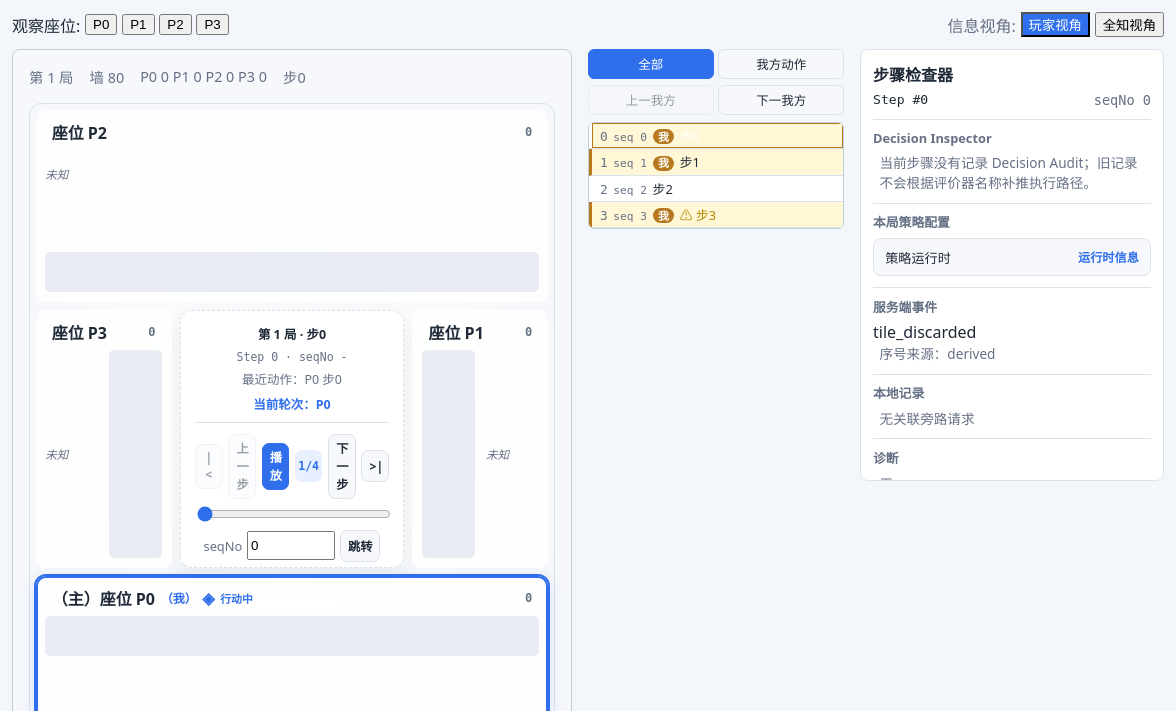
it: Timeline 条目与高亮 › 胡牌标记只存在于 HU 及之后的帧,回退立即清除
Click the button with test id "btn-next" at (342, 466), box [328,434,356,498]
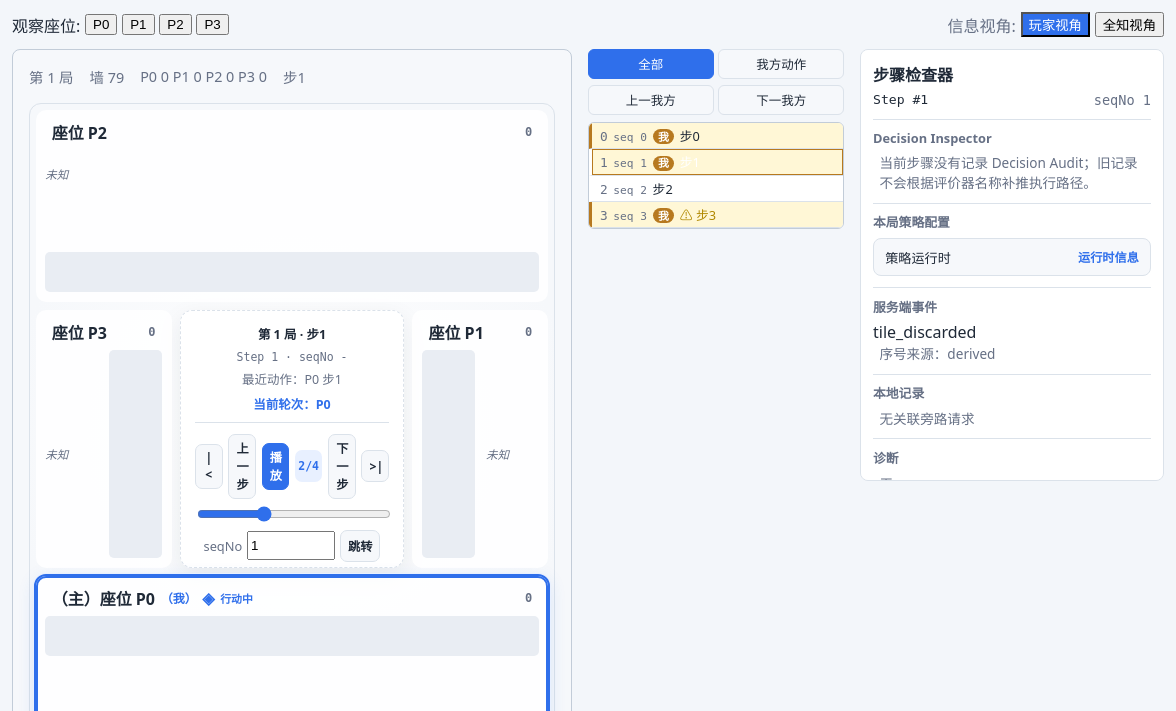
Click the button with test id "btn-next" at (342, 466), box [328,434,356,498]
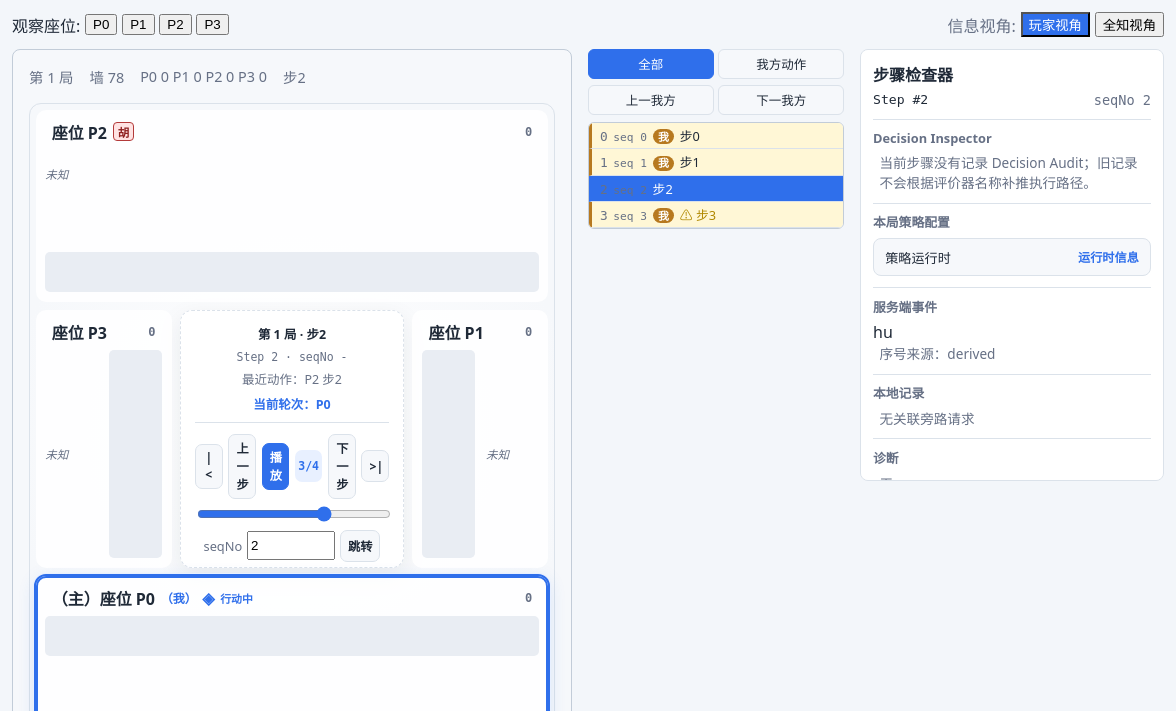
Check: the text with test id "winner-badge-2" reads "胡", box [118,125,129,140]
Click the button with test id "btn-next" at (342, 466), box [328,434,356,498]
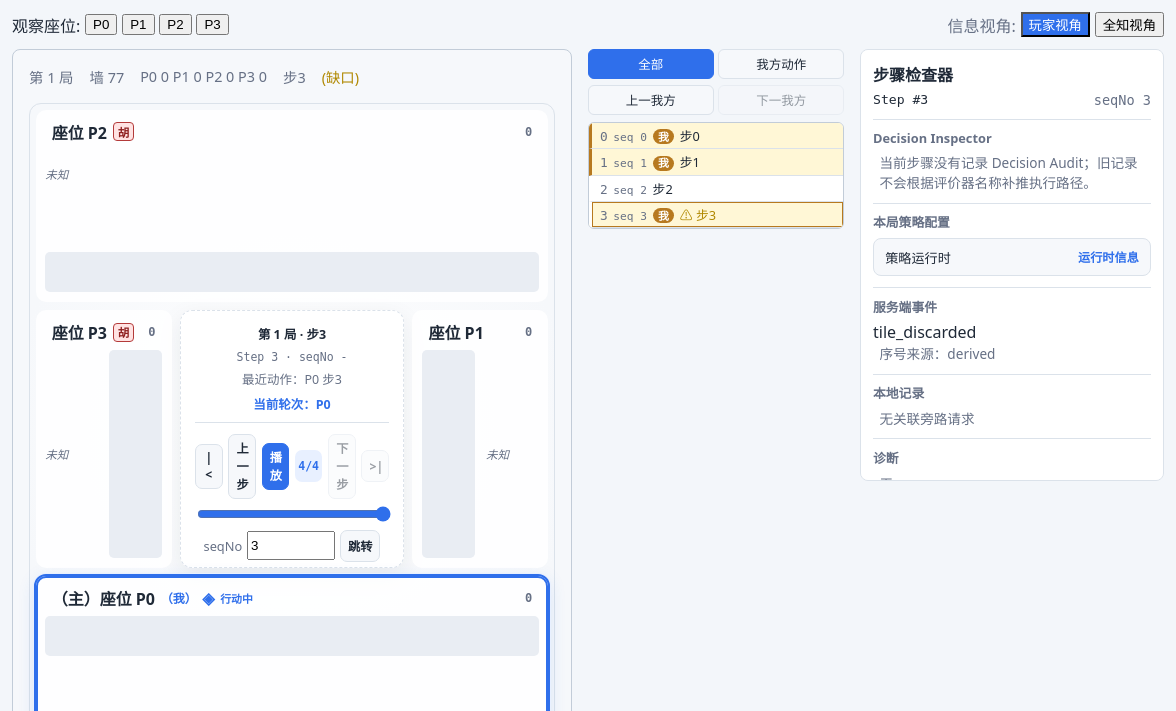
Check: the text with test id "winner-badge-3" reads "胡", box [118,326,129,340]
Click the button with test id "btn-back" at (242, 466), box [228,434,256,498]
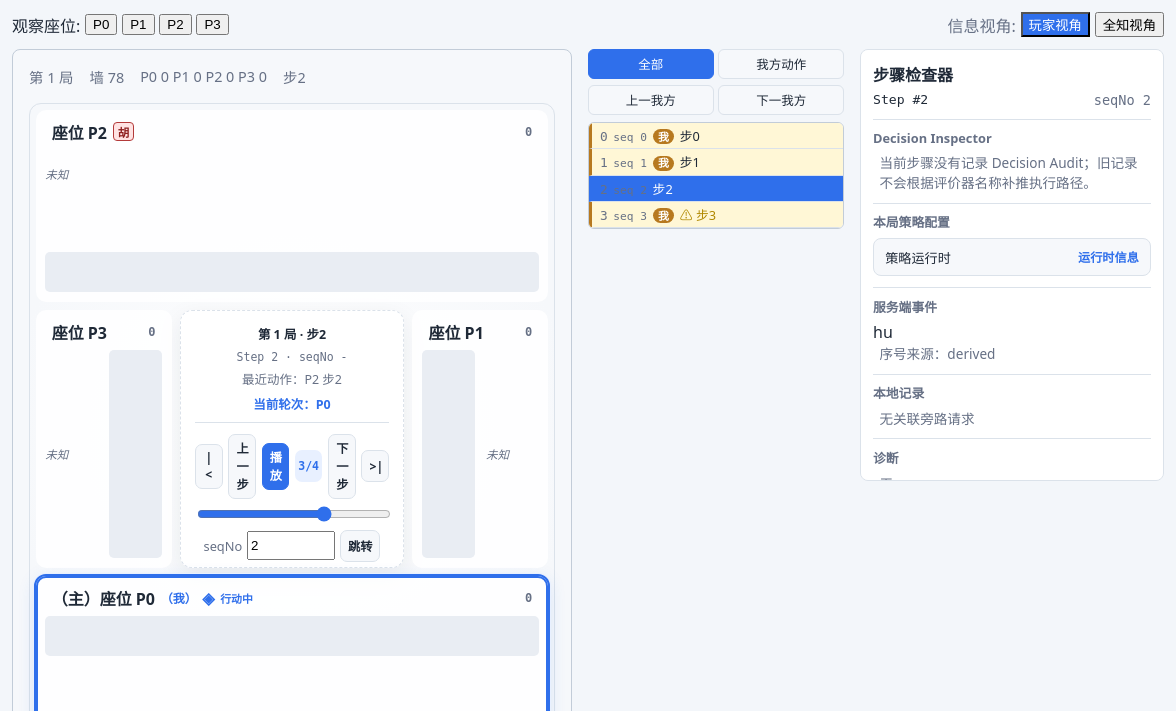
Check: the text "胡" is shown, box [113,122,134,141]
Check: the text with test id "winner-badge-3" is gone
Click the button with test id "btn-back" at (242, 466), box [228,434,256,498]
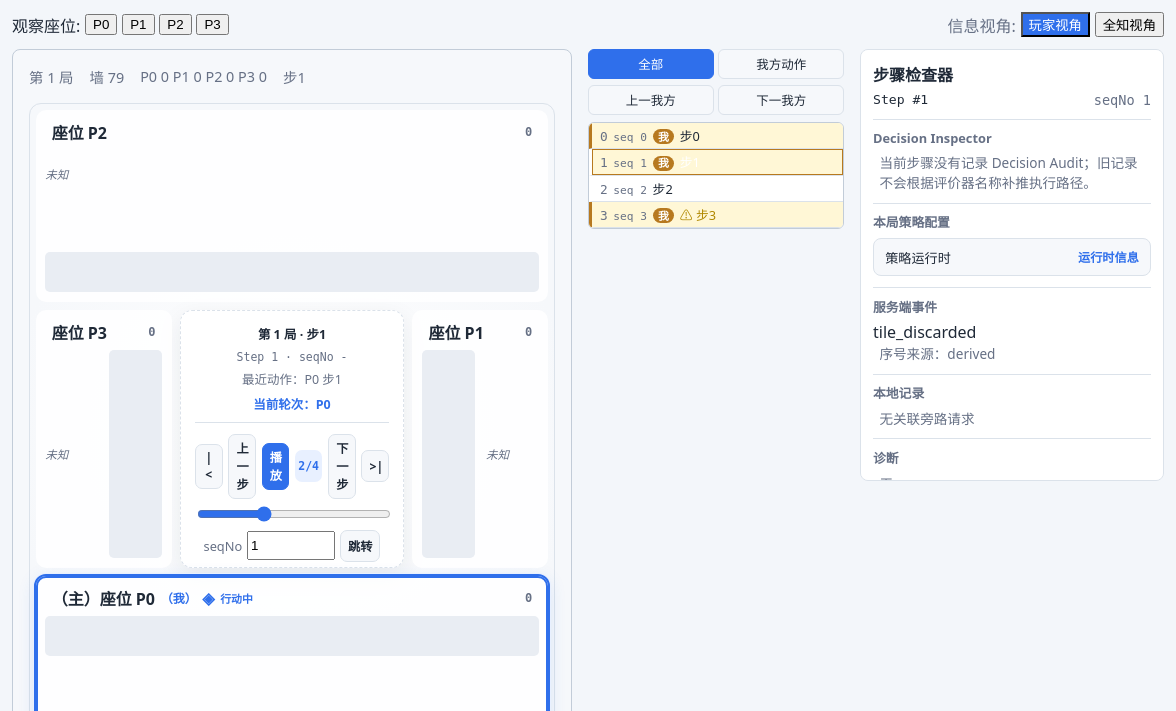
Check: the text with test id "winner-badge-2" is gone
